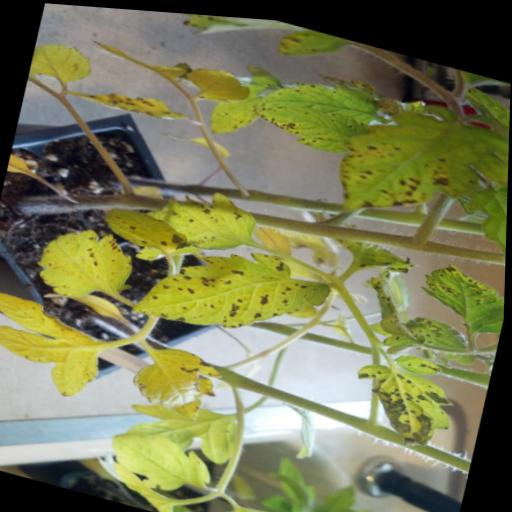Septoria: (328, 75, 511, 251), (133, 224, 340, 363), (0, 285, 122, 410), (346, 348, 465, 449), (31, 212, 147, 314), (145, 170, 265, 260), (132, 335, 230, 424), (246, 86, 367, 155), (414, 248, 507, 330), (267, 62, 383, 123), (69, 73, 198, 127), (98, 199, 196, 256)
